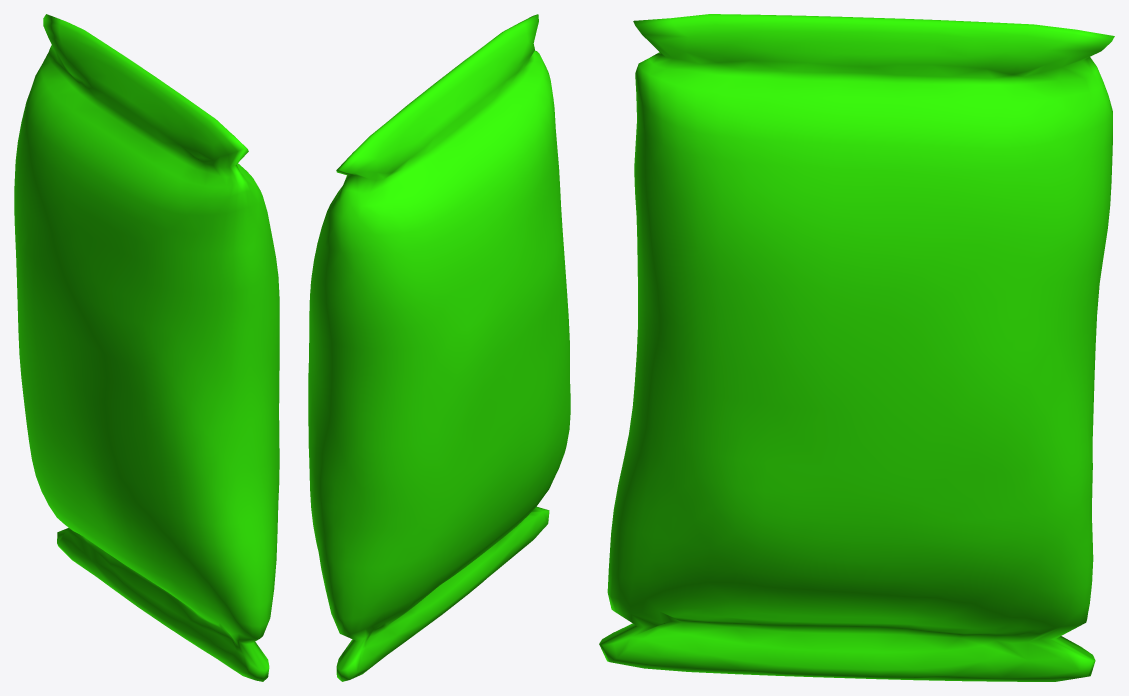
The model's file is Bag of chips.fbx.
3 views of the same model, side by side, from view 1: azimuth 30°, elevation 25°; view 2: azimuth 150°, elevation 25°; view 3: azimuth 270°, elevation 25° (orthographic). The views are drawn at different scales.
Visible parts, largest first — view 1: Box067; view 2: Box067; view 3: Box067.
Boxes of the visible parts, x1,y1,x2,y2 form: Box067: [14, 14, 279, 681]; Box067: [308, 14, 570, 681]; Box067: [599, 14, 1114, 681].
Bounding box in the file's own units: 4.04 × 13.01 × 9.19.
